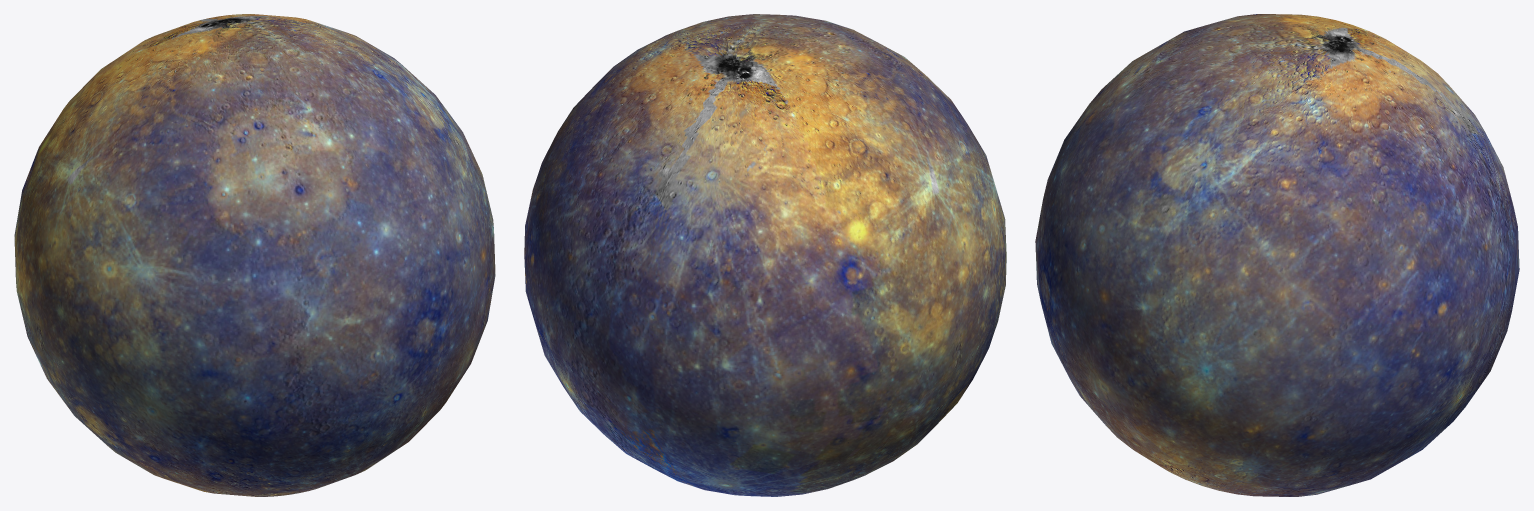
Rendered from mercury.glb.
3 renders of one model, left to right at view 1: azimuth 30°, elevation 25°; view 2: azimuth 150°, elevation 25°; view 3: azimuth 270°, elevation 25°, orthographic.
Visible parts, largest first — view 1: Mercury; view 2: Mercury; view 3: Mercury.
Boxes of the visible parts, x1,y1,x2,y2 form: Mercury: [14, 14, 495, 496]; Mercury: [524, 14, 1006, 496]; Mercury: [1035, 14, 1519, 496].
Bounding box in the file's own units: 16.06 × 16.02 × 16.02.
1 material, 1 textured.
